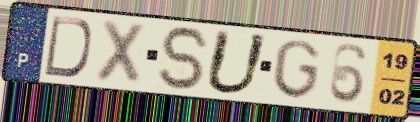6: (327, 42, 370, 108)
D: (41, 14, 94, 80)
G: (271, 38, 323, 102)
S: (157, 25, 213, 93)
U: (202, 27, 272, 97)
X: (92, 17, 149, 88)
